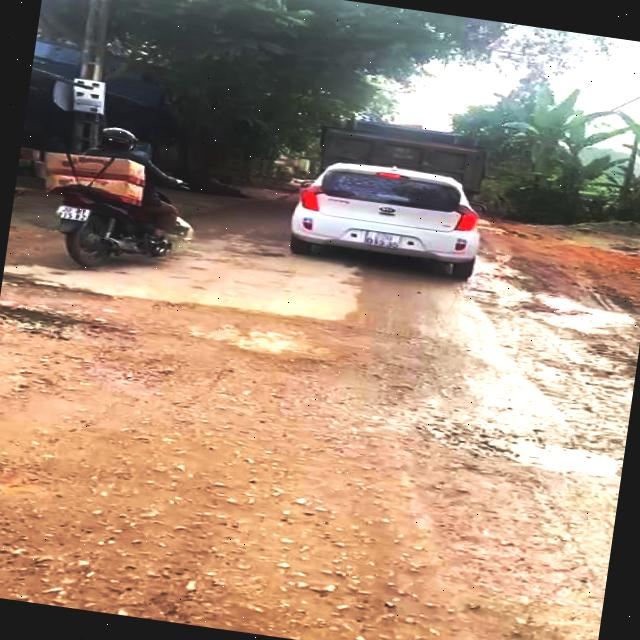pothole: (468, 416, 626, 484), (0, 303, 121, 347)
